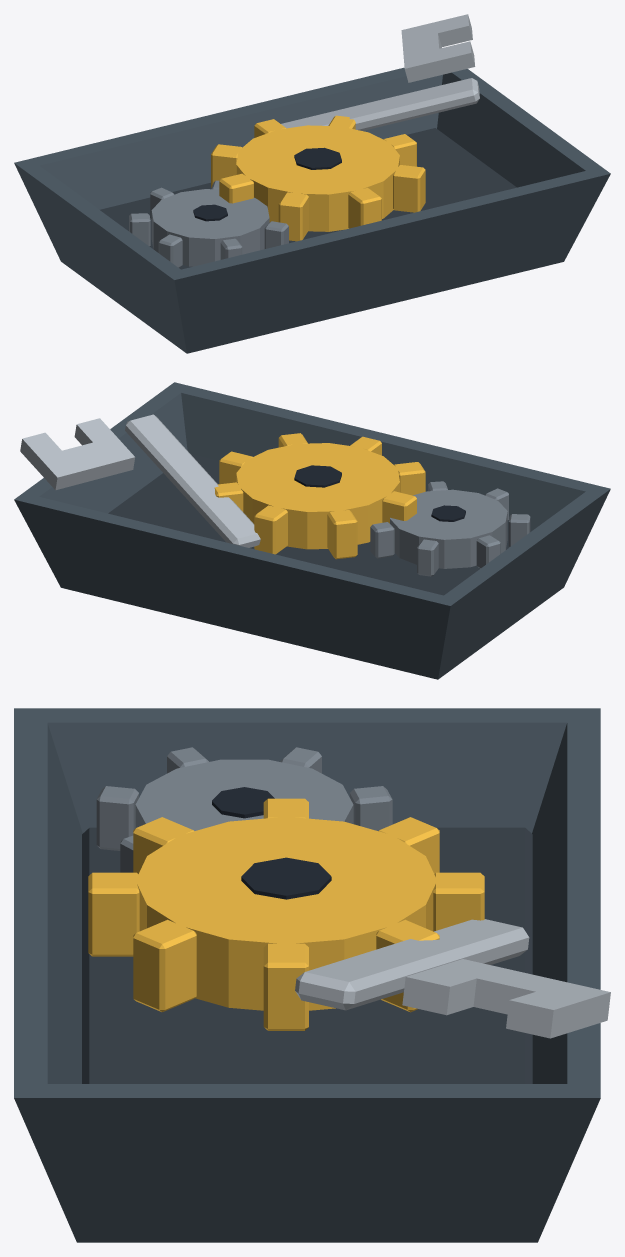
Rendered from Prop_PartsTray.fbx.
The picture shows the model from 3 angles, top to bottom: view 1: azimuth 30°, elevation 25°; view 2: azimuth 150°, elevation 25°; view 3: azimuth 270°, elevation 25°; orthographic projection. The views are drawn at different scales.
Parts seen in each view (by area): view 1: Frame, Amber_Metal, Steel, SteelLight, FrameDark, Slate; view 2: Frame, Amber_Metal, SteelLight, Steel, FrameDark, Slate; view 3: Frame, Amber_Metal, FrameDark, SteelLight, Steel, Slate.
Part boxes in pixels (box(x1,y1,x2,y2)): Frame: box(14, 67, 610, 353); Amber_Metal: box(211, 115, 425, 241); Steel: box(129, 180, 288, 267); SteelLight: box(281, 14, 479, 130); FrameDark: box(100, 128, 516, 269); Slate: box(193, 147, 341, 221); Frame: box(14, 382, 610, 679); Amber_Metal: box(214, 433, 425, 559); SteelLight: box(20, 414, 260, 547); Steel: box(370, 481, 530, 576); FrameDark: box(108, 454, 509, 595); Slate: box(294, 465, 465, 521); Frame: box(14, 708, 600, 1242); Amber_Metal: box(88, 798, 484, 1030); FrameDark: box(82, 827, 532, 1083); SteelLight: box(295, 919, 610, 1038); Steel: box(96, 747, 392, 872); Slate: box(212, 787, 331, 899).
Size of the model in its own units: 2.24 by 0.6927 by 1.42.
